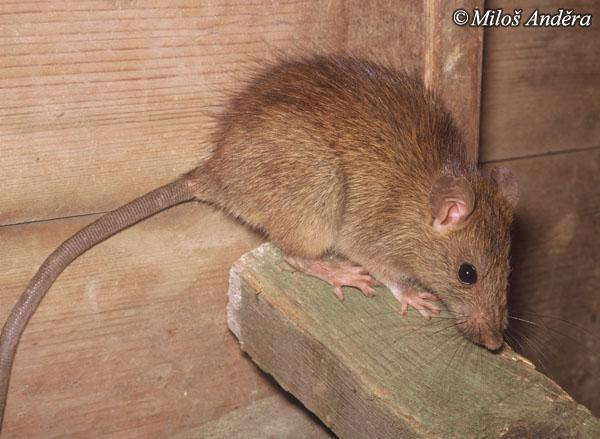rat: (0, 57, 520, 416)
